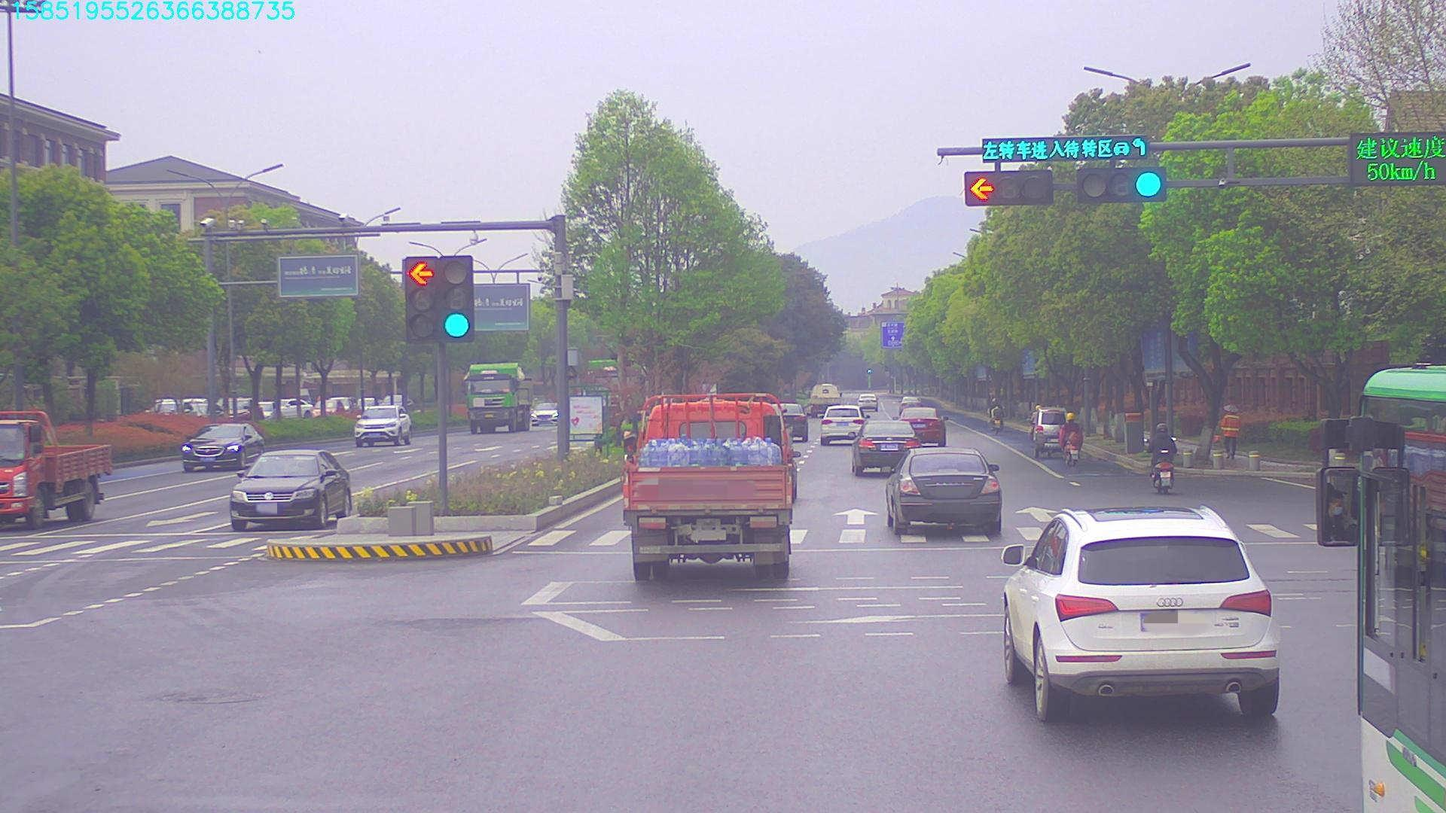green: (1072, 169, 1161, 205)
red: (966, 173, 1051, 206)
wait_on: (979, 138, 1146, 157)
